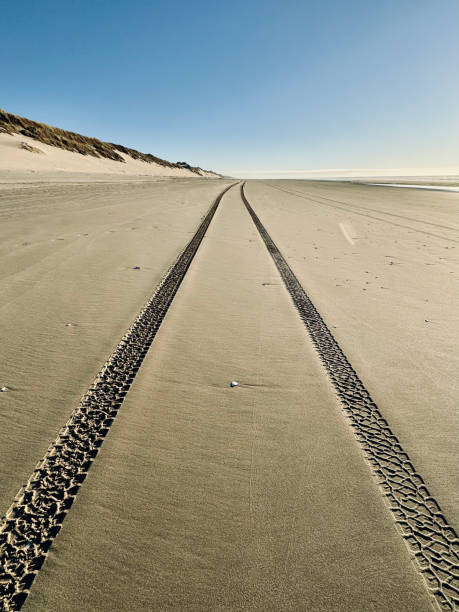vehicle_track: (0, 185, 231, 611), (241, 184, 458, 610), (264, 183, 458, 242)
